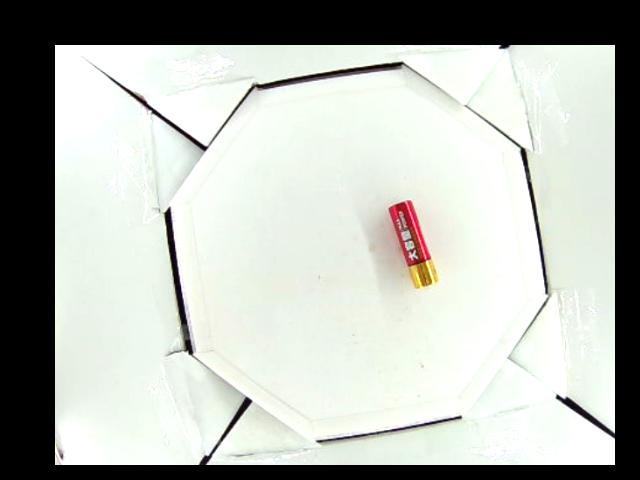Battery: (388, 199, 438, 289)
